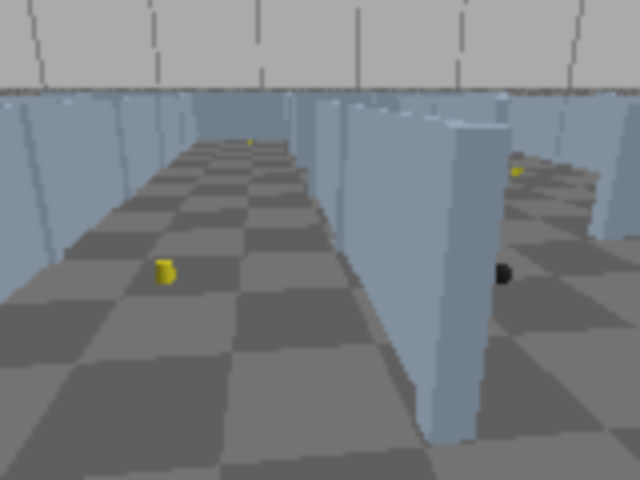puck: (484, 260, 518, 291), (156, 258, 174, 284)
